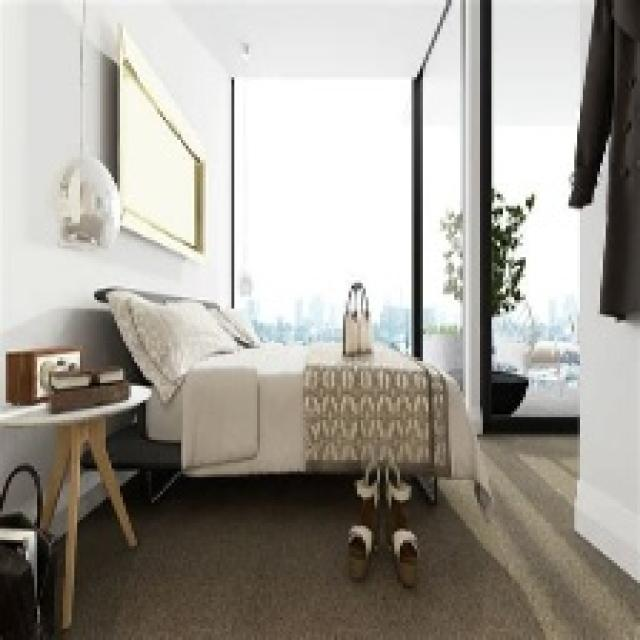Bed: (89, 283, 492, 508)
